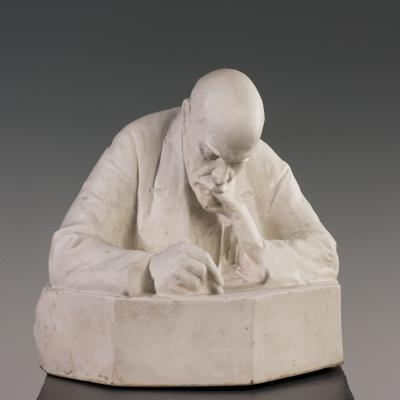sculpture: (33, 69, 344, 389)
